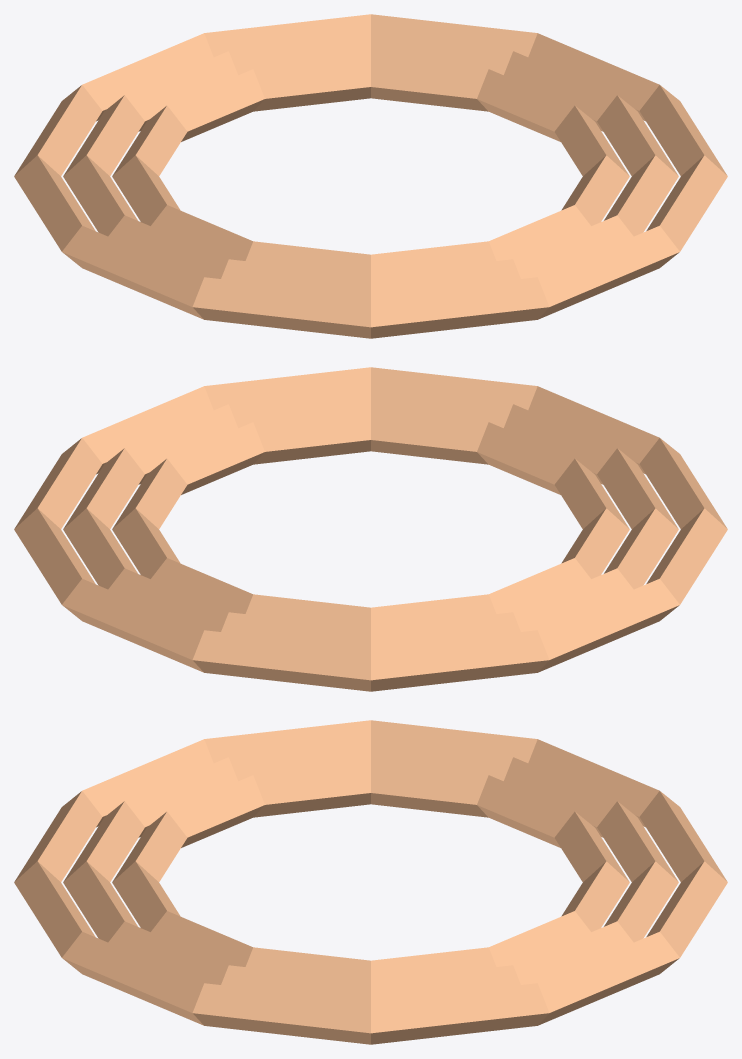
The picture shows the model from 3 angles, top to bottom: view 1: azimuth 30°, elevation 25°; view 2: azimuth 150°, elevation 25°; view 3: azimuth 270°, elevation 25°; orthographic projection.
Parts seen in each view (by area): view 1: Rope coil.002, Rope coil, Rope coil.001; view 2: Rope coil.002, Rope coil, Rope coil.001; view 3: Rope coil.002, Rope coil, Rope coil.001.
Boxes of the visible parts, x1,y1,x2,y2 form: Rope coil.002: (14, 14, 727, 338); Rope coil: (112, 55, 629, 275); Rope coil.001: (63, 35, 678, 295); Rope coil.002: (14, 367, 727, 691); Rope coil: (112, 408, 629, 628); Rope coil.001: (63, 388, 678, 648); Rope coil.002: (14, 720, 727, 1044); Rope coil: (112, 761, 629, 981); Rope coil.001: (63, 741, 678, 1001).
Size of the model in its own units: 36.4 by 2.4 by 36.4.
